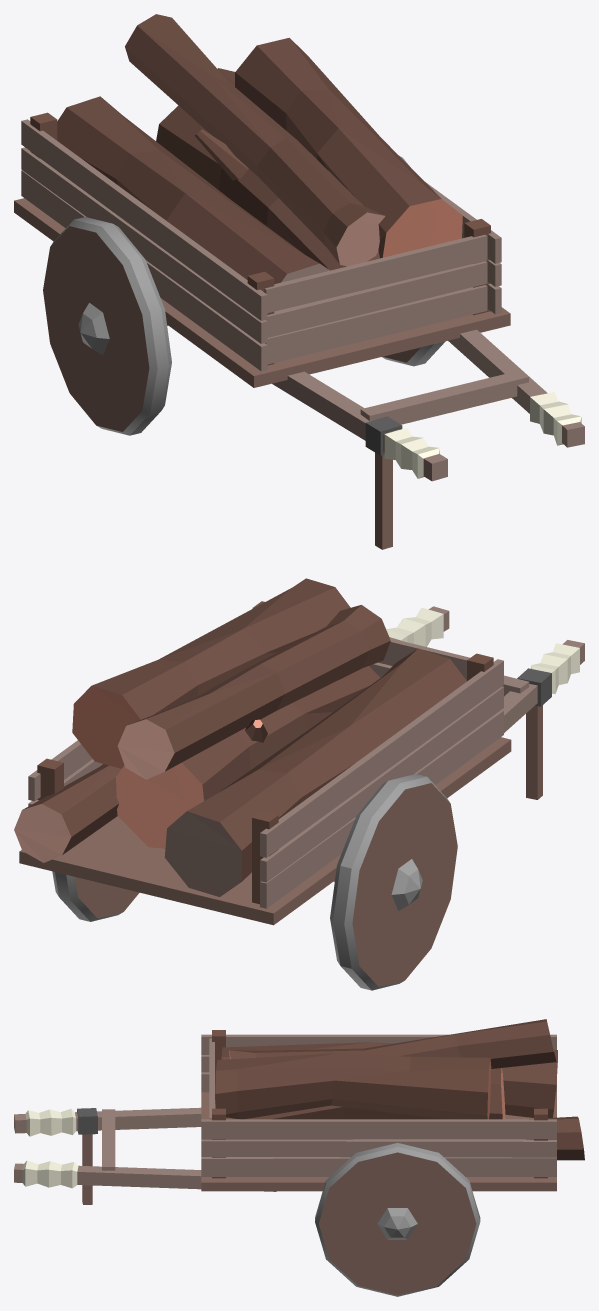
The model's file is prop_071.fbx.
3 renders of one model, top to bottom at view 1: azimuth 30°, elevation 25°; view 2: azimuth 150°, elevation 25°; view 3: azimuth 270°, elevation 25°, orthographic. The views are drawn at different scales.
Visible parts, largest first — view 1: prop.071; view 2: prop.071; view 3: prop.071.
Part boxes in pixels (bbox=[...]): prop.071: bbox=[14, 14, 584, 549]; prop.071: bbox=[14, 578, 584, 990]; prop.071: bbox=[14, 1019, 584, 1296].
Bounding box in the file's own units: 394 × 338 × 778.
1 material, 1 textured.
